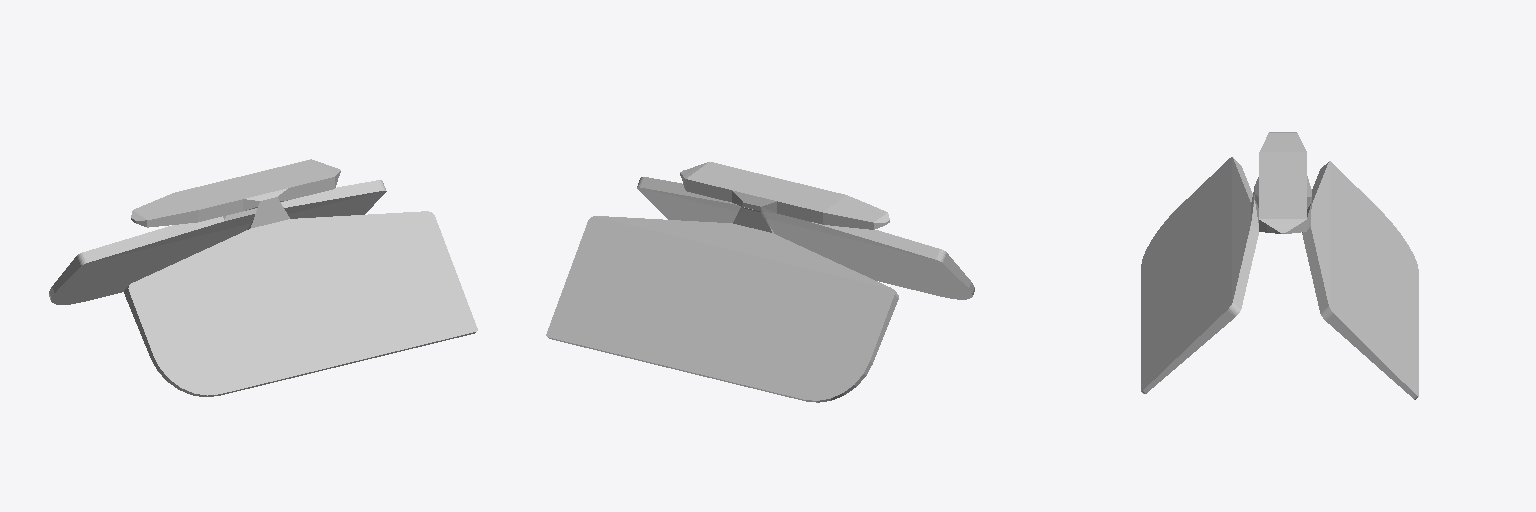
File: butterfly2.obj
3 renders of one model, left to right at view 1: azimuth 30°, elevation 25°; view 2: azimuth 150°, elevation 25°; view 3: azimuth 270°, elevation 25°, orthographic.
Parts seen in each view (by area): view 1: Cube; view 2: Cube; view 3: Cube.
Part boxes in pixels (x1,y1,x2,y2): Cube: (49, 159, 477, 396); Cube: (546, 162, 974, 402); Cube: (1141, 132, 1418, 399).
Bounding box in the file's own units: 5.55 × 2.43 × 4.36.